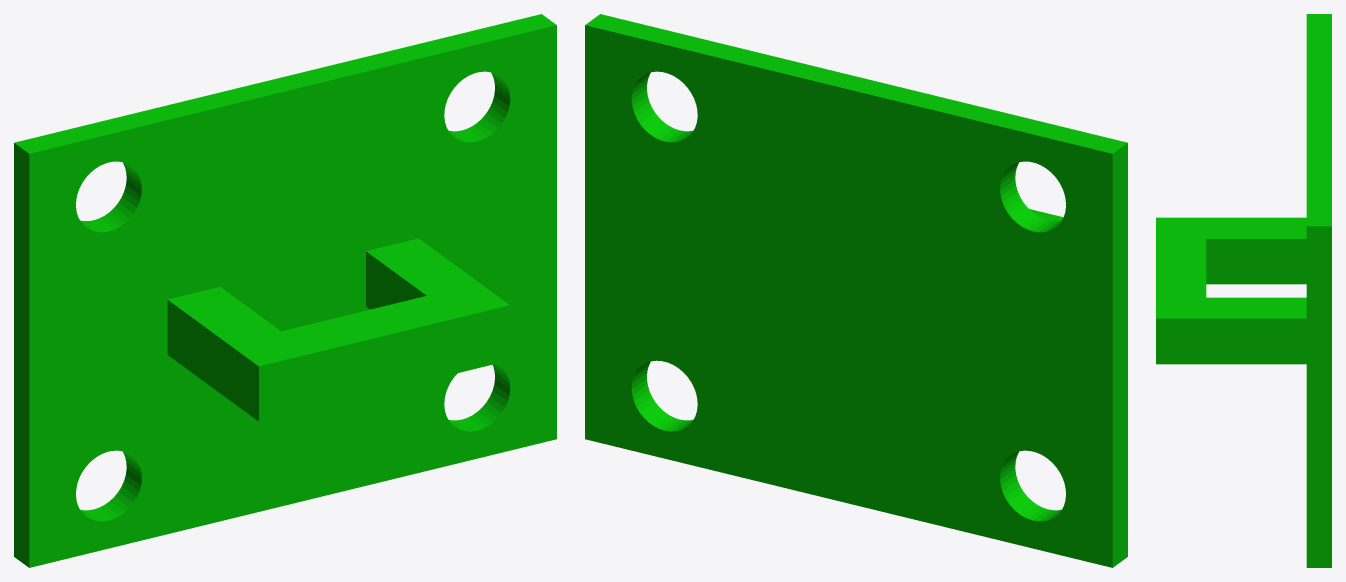
Rendered from bracket_uniform_scale_1p2.obj.
3 renders of one model, left to right at view 1: azimuth 30°, elevation 25°; view 2: azimuth 150°, elevation 25°; view 3: azimuth 270°, elevation 25°, orthographic. The views are drawn at different scales.
Size of the model in its own units: 0.24 by 0.18 by 0.084.
